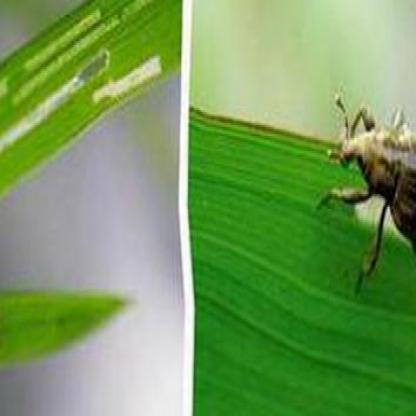rice-bug: (332, 102, 416, 246)
